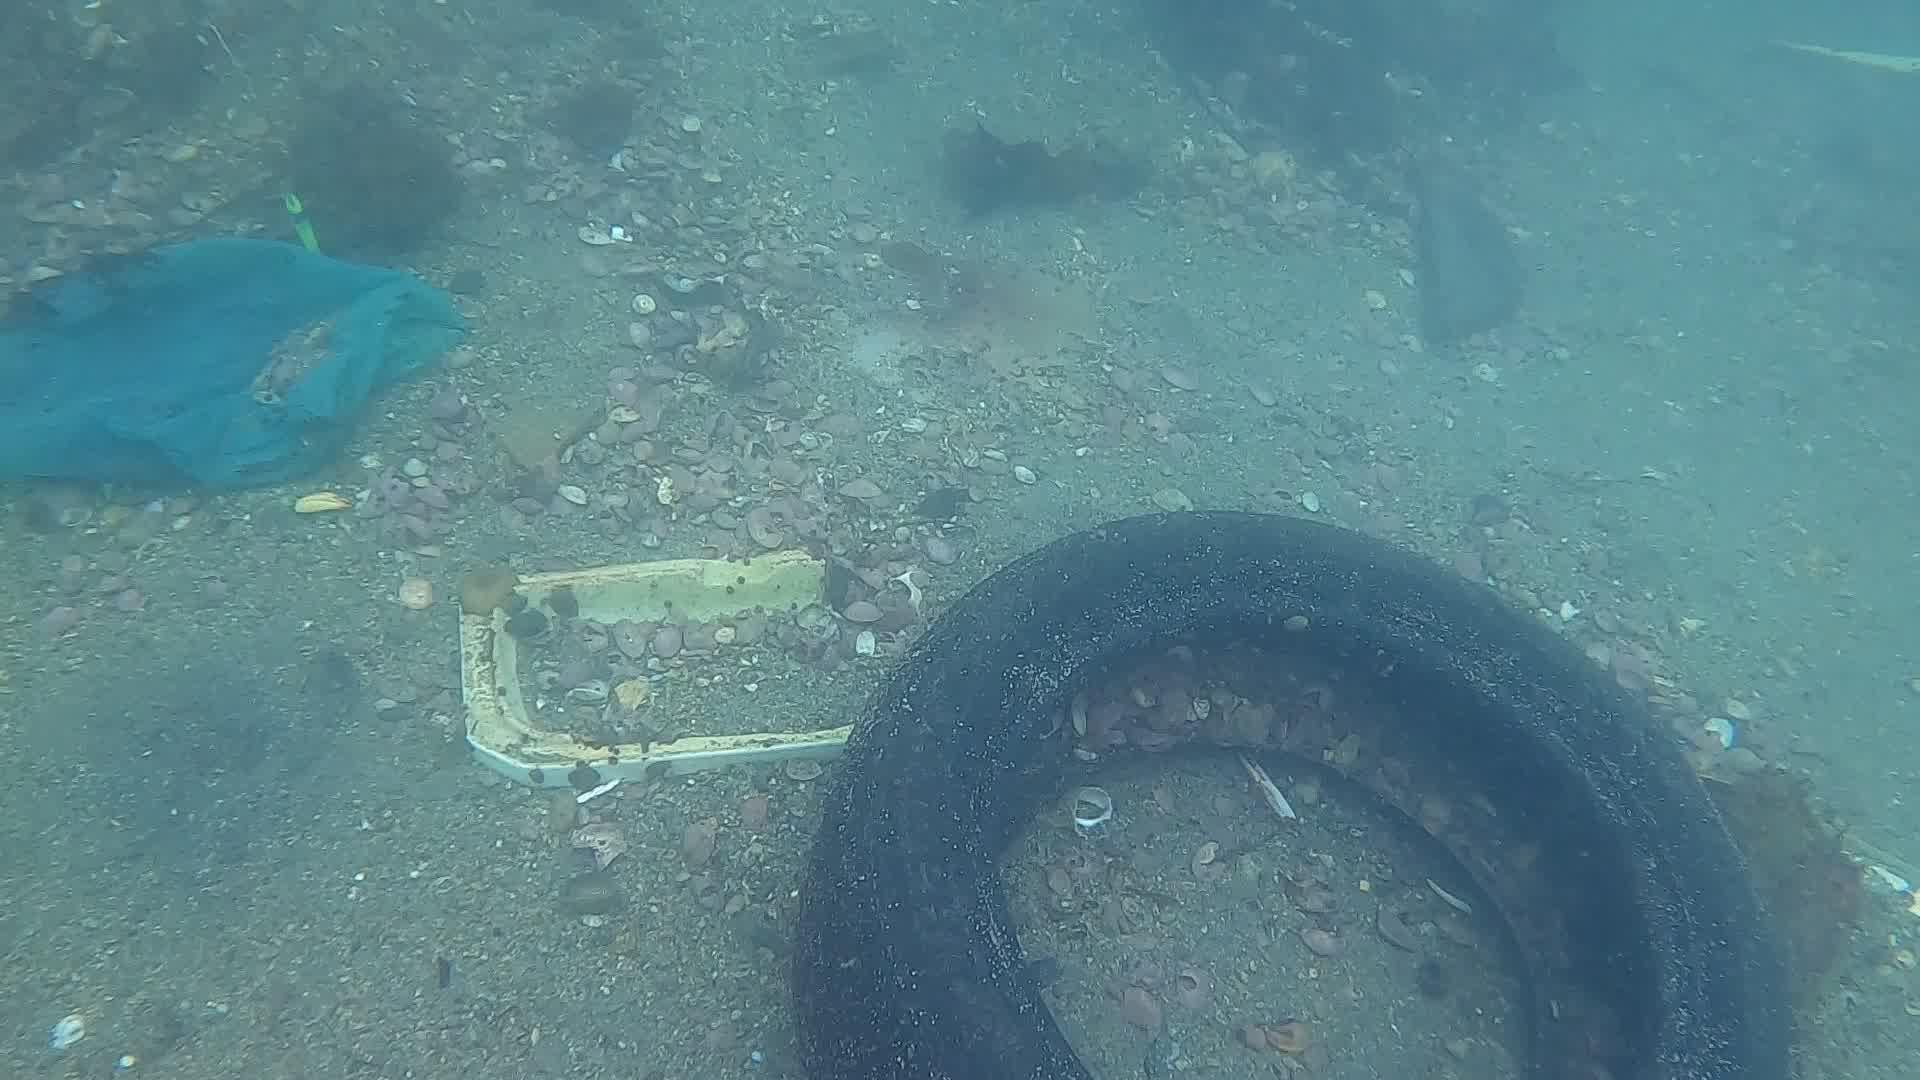tire: (799, 504, 1803, 1080)
